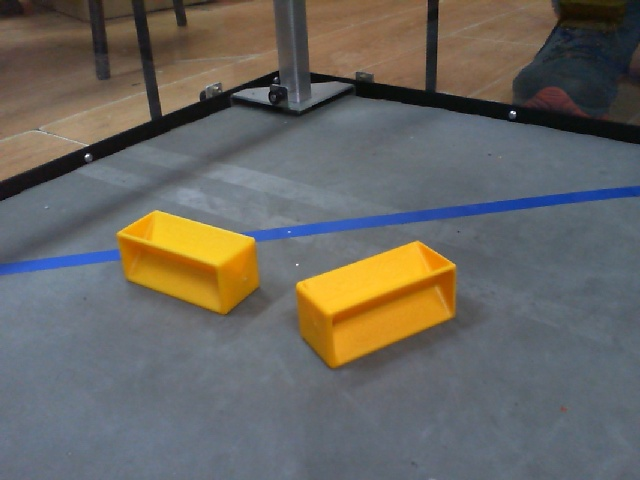YellowSample: (291, 239, 468, 371), (110, 207, 265, 317)
